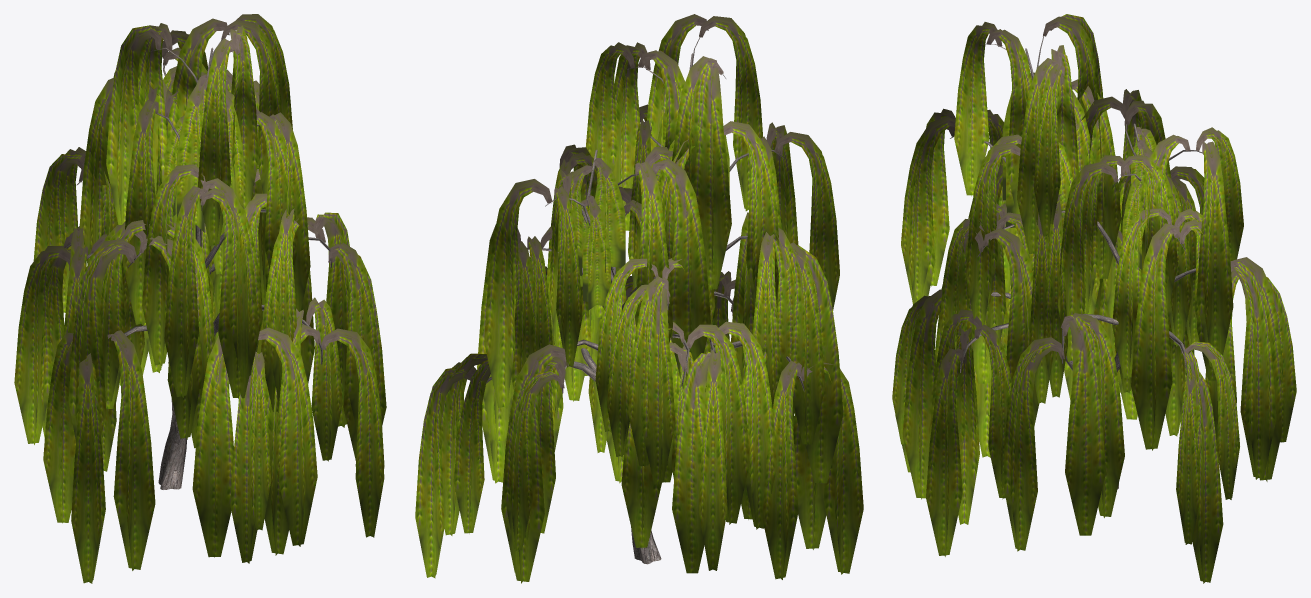
Rendered from WillowTree.fbx.
3 renders of one model, left to right at view 1: azimuth 30°, elevation 25°; view 2: azimuth 150°, elevation 25°; view 3: azimuth 270°, elevation 25°, orthographic. The views are drawn at different scales.
Visible parts, largest first — view 1: Tree_1, Tree_0; view 2: Tree_1, Tree_0; view 3: Tree_1, Tree_0.
Boxes of the visible parts, <box> form: Tree_1: <box>14,14,386,583</box>; Tree_0: <box>65,34,331,489</box>; Tree_1: <box>415,14,863,583</box>; Tree_0: <box>486,28,804,564</box>; Tree_1: <box>892,14,1296,583</box>; Tree_0: <box>950,36,1239,489</box>.
Bounding box in the file's own units: 254 × 374 × 282.
2 materials, 2 textured.
